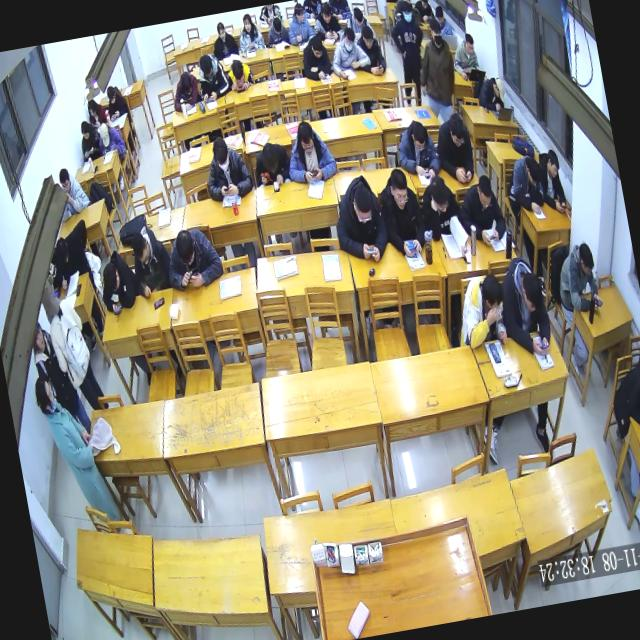bow: (159, 218, 227, 294), (92, 243, 141, 314), (505, 148, 548, 217), (249, 134, 295, 189), (166, 65, 202, 114), (474, 70, 509, 114), (222, 54, 255, 94)
down: (518, 268, 548, 318), (348, 178, 376, 228), (478, 270, 507, 316), (384, 165, 412, 212), (426, 170, 452, 217), (172, 226, 199, 271), (128, 228, 154, 270), (209, 134, 234, 175), (444, 109, 468, 150), (293, 118, 317, 159), (99, 259, 124, 296), (574, 240, 597, 280), (258, 138, 282, 176), (473, 172, 496, 210), (408, 118, 430, 154), (522, 155, 544, 190), (542, 144, 562, 182), (52, 234, 72, 266), (56, 166, 74, 197), (197, 52, 216, 81), (490, 74, 507, 104), (308, 34, 326, 61), (178, 70, 195, 98), (359, 24, 376, 52), (229, 57, 246, 84), (97, 120, 113, 148), (317, 0, 333, 26), (350, 4, 366, 29), (462, 32, 477, 58), (78, 118, 93, 142), (433, 4, 446, 28), (104, 82, 117, 104), (215, 20, 228, 42), (85, 97, 98, 118), (270, 14, 283, 35), (417, 0, 430, 10)
lookup: (26, 320, 48, 356), (426, 18, 446, 50), (339, 22, 358, 54), (398, 0, 414, 26), (240, 12, 254, 32)
sit: (30, 365, 119, 531), (34, 268, 106, 417), (25, 313, 91, 435), (492, 249, 557, 361), (326, 169, 392, 269), (372, 162, 430, 263), (447, 268, 512, 354), (416, 166, 472, 264), (409, 15, 462, 116), (278, 113, 340, 189), (454, 168, 509, 250), (550, 237, 604, 319), (198, 131, 256, 206), (124, 218, 176, 300), (429, 107, 480, 189), (390, 116, 446, 187), (386, 0, 432, 86), (602, 355, 640, 440), (324, 19, 374, 82), (47, 230, 94, 293), (51, 160, 93, 223), (534, 145, 570, 216), (192, 46, 232, 104), (350, 18, 388, 78), (297, 31, 333, 84), (447, 28, 481, 82), (232, 6, 267, 56), (308, 0, 345, 44), (281, 0, 316, 46), (93, 118, 127, 160), (74, 114, 104, 161), (208, 18, 240, 61), (343, 3, 375, 43), (101, 79, 129, 120), (262, 12, 292, 50), (85, 94, 108, 128), (432, 0, 452, 36), (411, 0, 435, 24)
